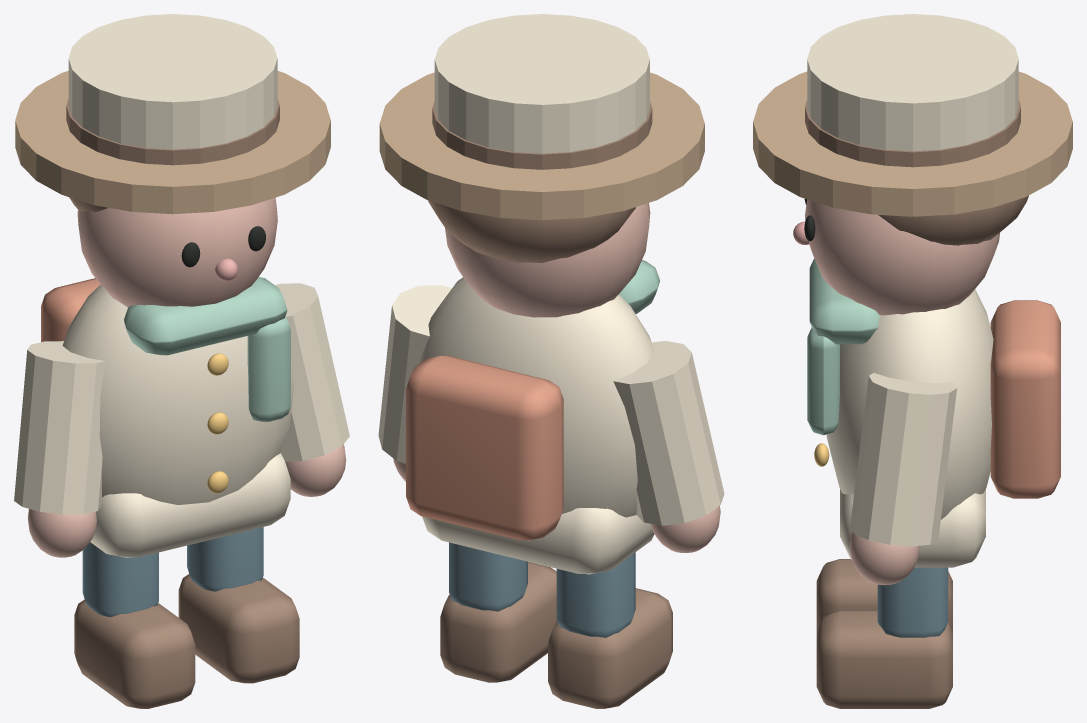
Rendered from detective.glb.
3 renders of one model, left to right at view 1: azimuth 30°, elevation 25°; view 2: azimuth 150°, elevation 25°; view 3: azimuth 270°, elevation 25°, orthographic. The views are drawn at different scales.
Parts seen in each view (by area): view 1: Coat, Detective hat, Detective hat brim, Head, Sleeve, Boot, Coat hem, Boot.001, Sleeve.001, Mint scarf, Trouser, Scarf end (+5 smaller); view 2: Detective hat, Detective satchel, Coat, Detective hat brim, Sleeve, Head, Boot, Boot.001, Coat hem, Hair, Sleeve.001, Trouser (+4 smaller); view 3: Detective hat, Detective hat brim, Coat, Sleeve.001, Head, Detective satchel, Boot.001, Trouser.001, Coat hem, Hat band, Hair, Mint scarf (+3 smaller).
Boxes of the visible parts, x1=… form: Coat: x1=62, y1=284, x2=293, y2=504; Detective hat: x1=68, y1=14, x2=277, y2=149; Detective hat brim: x1=15, y1=71, x2=330, y2=214; Head: x1=77, y1=197, x2=277, y2=307; Sleeve: x1=14, y1=341, x2=105, y2=514; Boot: x1=74, y1=599, x2=195, y2=708; Coat hem: x1=90, y1=453, x2=290, y2=557; Boot.001: x1=178, y1=574, x2=299, y2=683; Sleeve.001: x1=275, y1=283, x2=349, y2=461; Mint scarf: x1=124, y1=277, x2=287, y2=355; Trouser: x1=82, y1=542, x2=158, y2=617; Scarf end: x1=247, y1=316, x2=290, y2=421; Detective hat: x1=434, y1=14, x2=649, y2=153; Detective satchel: x1=406, y1=356, x2=563, y2=540; Coat: x1=419, y1=277, x2=654, y2=517; Detective hat brim: x1=379, y1=72, x2=704, y2=220; Sleeve: x1=613, y1=341, x2=724, y2=525; Head: x1=445, y1=203, x2=650, y2=317; Boot: x1=548, y1=588, x2=672, y2=708; Boot.001: x1=440, y1=562, x2=557, y2=682; Coat hem: x1=422, y1=508, x2=654, y2=574; Hair: x1=428, y1=200, x2=635, y2=262; Sleeve.001: x1=378, y1=285, x2=451, y2=463; Trouser: x1=556, y1=552, x2=635, y2=637; Detective hat: x1=807, y1=14, x2=1018, y2=151; Detective hat brim: x1=753, y1=71, x2=1072, y2=216; Coat: x1=826, y1=289, x2=993, y2=519; Sleeve.001: x1=850, y1=373, x2=956, y2=546; Head: x1=805, y1=199, x2=999, y2=315; Detective satchel: x1=990, y1=300, x2=1060, y2=498; Boot.001: x1=816, y1=610, x2=952, y2=708; Trouser.001: x1=877, y1=567, x2=948, y2=637; Coat hem: x1=840, y1=489, x2=985, y2=567; Hat band: x1=805, y1=99, x2=1020, y2=167; Hair: x1=878, y1=195, x2=1028, y2=245; Mint scarf: x1=809, y1=258, x2=879, y2=344.
Bounding box in the file's own units: 0.8063 × 1.45 × 0.68.
